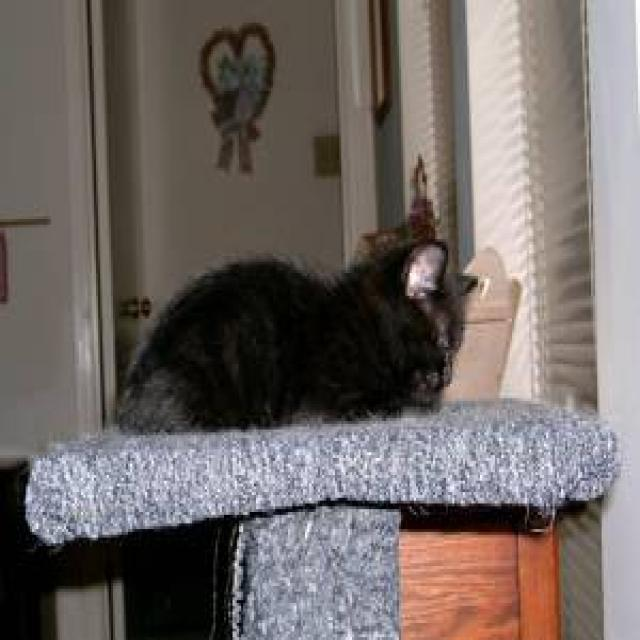Bombay: (330, 240, 483, 418)
